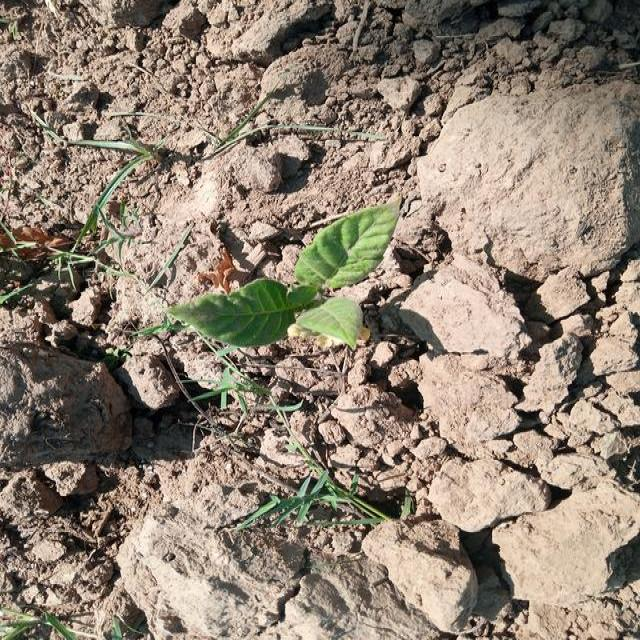crop: (180, 220, 400, 336)
